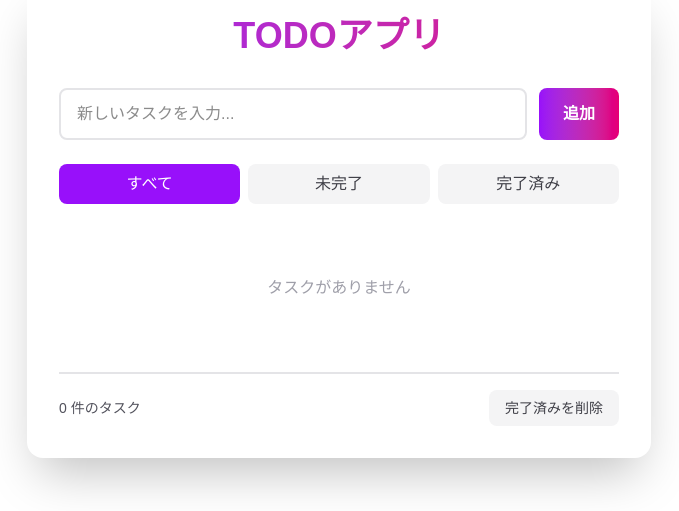
Scenario: TodoList › タスクの追加 › 入力欄にテキストを入力して追加ボタンをクリックするとタスクが追加されること
This screenshot has width=679, height=511.
Type "買い物に行く" into the field with placeholder "新しいタスクを入力...".
click(293, 114); type("買い物に行く")  # box [59,88,527,140]
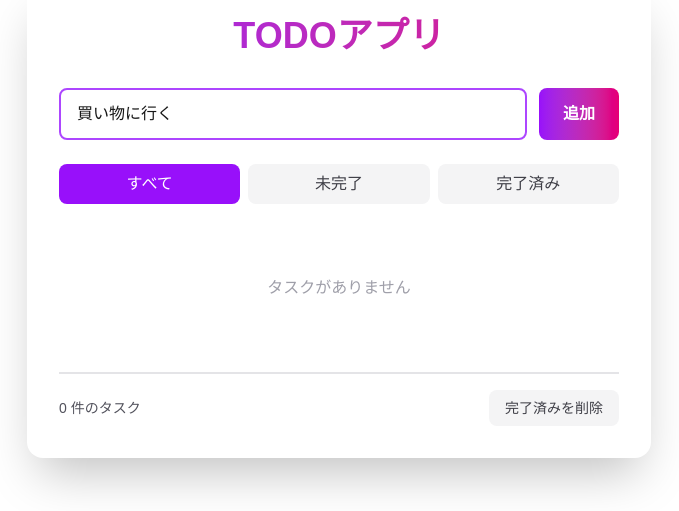
Click the button "追加".
click(579, 114)  # box [539,88,619,140]
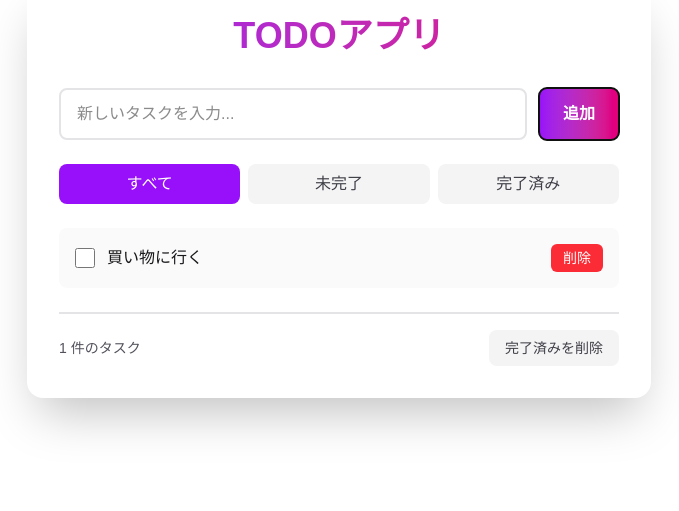
Expected: the text "買い物に行く" is shown, [107,249,203,266]
Expected: the text "1 件のタスク" is shown, [59,338,141,358]
